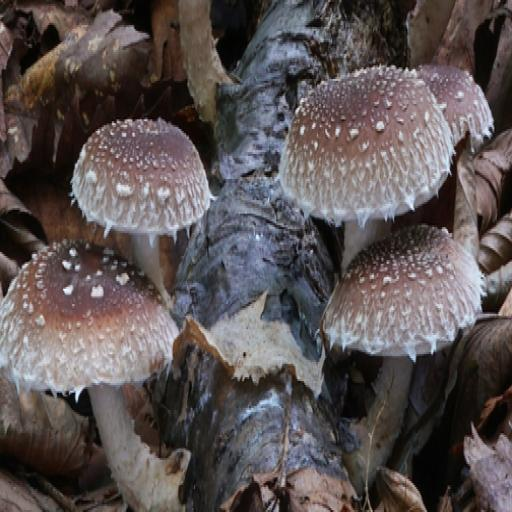Shiitake Mushroom: (285, 66, 487, 489), (0, 227, 255, 512), (49, 103, 228, 285)
